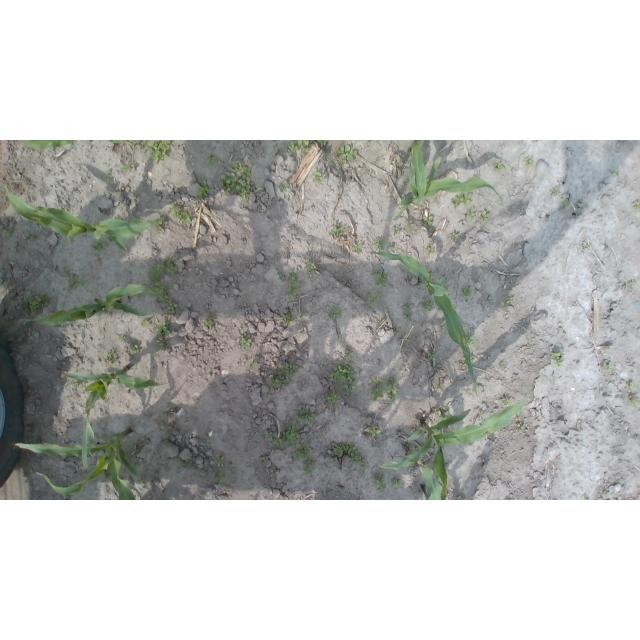Maize: (381, 392, 532, 500), (371, 250, 482, 395), (5, 183, 166, 253), (65, 363, 160, 468), (17, 428, 144, 501), (394, 157, 506, 221), (24, 286, 161, 327), (21, 140, 124, 154), (410, 140, 428, 204), (417, 461, 444, 500)
Weeds: (219, 164, 251, 199), (369, 379, 400, 402), (332, 443, 361, 465), (328, 363, 357, 383), (63, 268, 86, 293), (22, 295, 49, 316), (151, 140, 171, 164), (334, 145, 359, 164), (296, 404, 317, 425), (152, 280, 169, 302), (282, 426, 301, 445), (292, 444, 313, 461), (451, 192, 473, 208), (287, 269, 299, 297), (285, 140, 309, 153), (148, 264, 167, 280), (329, 223, 347, 238), (375, 270, 389, 288), (278, 364, 299, 376), (374, 472, 387, 490), (173, 211, 191, 223), (402, 303, 414, 321), (367, 293, 382, 307), (303, 460, 316, 476), (553, 350, 565, 367), (324, 392, 341, 404), (157, 321, 169, 337), (268, 374, 281, 388), (239, 335, 252, 349), (92, 241, 108, 252), (264, 430, 278, 442), (105, 350, 117, 364), (152, 222, 164, 235), (164, 302, 176, 315), (344, 384, 357, 396), (198, 184, 209, 198), (167, 260, 177, 275), (128, 342, 140, 354), (368, 427, 381, 438), (214, 454, 224, 468), (352, 243, 363, 255), (331, 308, 342, 320), (121, 161, 134, 171), (312, 172, 323, 183), (272, 439, 284, 449), (439, 410, 449, 422), (500, 298, 512, 308), (143, 140, 152, 153), (204, 316, 213, 329), (468, 207, 477, 220), (4, 231, 15, 241), (602, 364, 614, 373), (424, 300, 433, 312), (283, 315, 292, 327), (462, 288, 474, 297), (524, 156, 534, 166), (375, 238, 385, 248), (306, 261, 316, 271), (208, 154, 217, 165), (424, 217, 433, 228), (104, 469, 112, 480), (466, 335, 474, 346), (392, 480, 401, 489), (516, 424, 525, 433), (628, 383, 637, 392), (552, 188, 561, 197), (280, 184, 289, 193), (496, 163, 505, 172), (428, 352, 437, 361), (214, 475, 224, 483), (104, 171, 112, 181), (361, 464, 367, 476), (168, 204, 176, 213), (392, 226, 400, 235), (405, 221, 415, 228), (317, 140, 328, 146), (624, 283, 635, 289), (72, 382, 83, 388), (632, 399, 640, 407), (141, 318, 149, 326), (344, 350, 352, 358), (500, 398, 509, 405), (561, 198, 568, 207), (482, 212, 489, 221), (428, 244, 435, 253), (612, 167, 619, 175), (463, 357, 468, 368), (183, 462, 192, 468), (635, 201, 640, 210), (27, 236, 36, 241), (120, 335, 127, 341), (451, 233, 457, 240), (432, 408, 440, 413), (132, 140, 137, 148), (456, 496, 464, 501), (499, 363, 505, 369), (288, 309, 293, 316), (280, 274, 285, 281), (438, 384, 445, 389), (251, 361, 256, 368), (263, 456, 269, 461), (140, 478, 145, 484), (604, 491, 609, 497), (284, 380, 289, 385), (396, 328, 401, 333), (526, 344, 531, 349), (108, 236, 112, 241), (390, 243, 395, 247), (471, 356, 475, 361), (162, 213, 168, 216), (204, 436, 208, 440)
